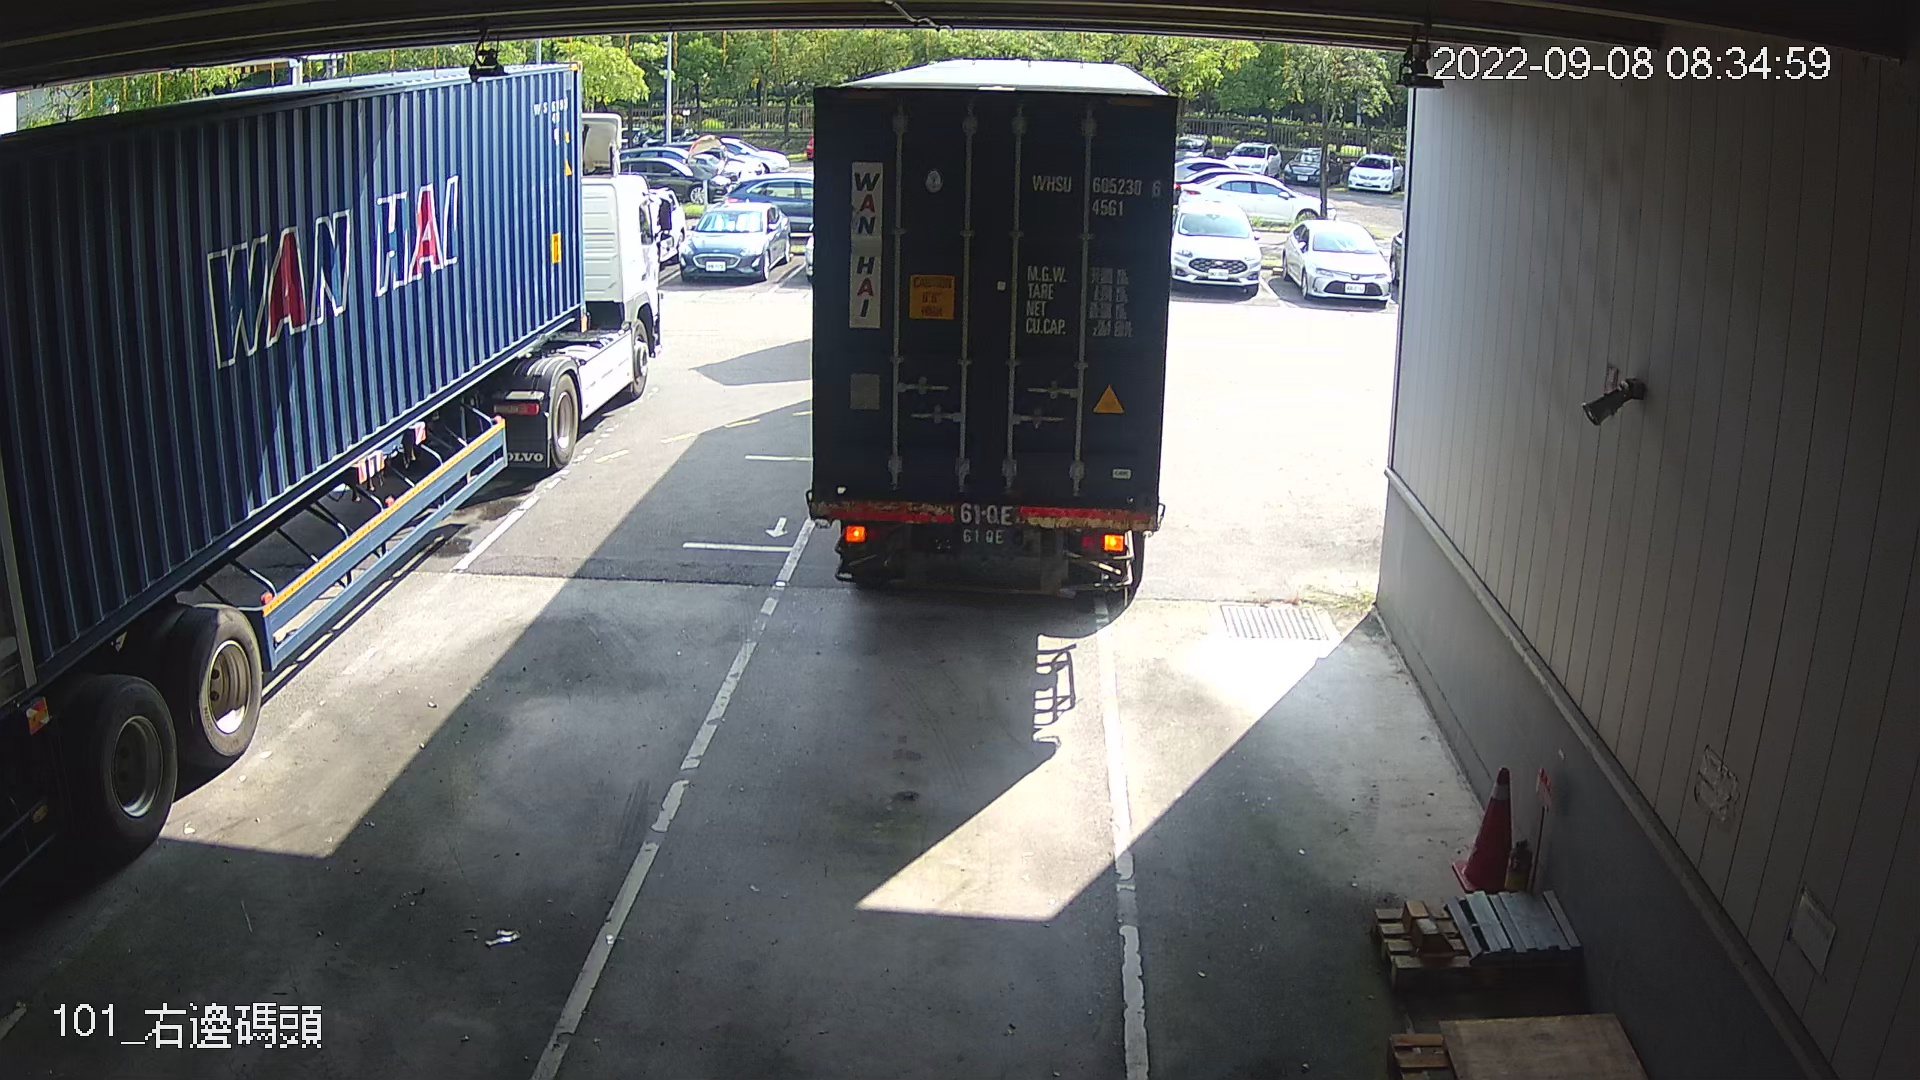container: (1025, 164, 1167, 222)
